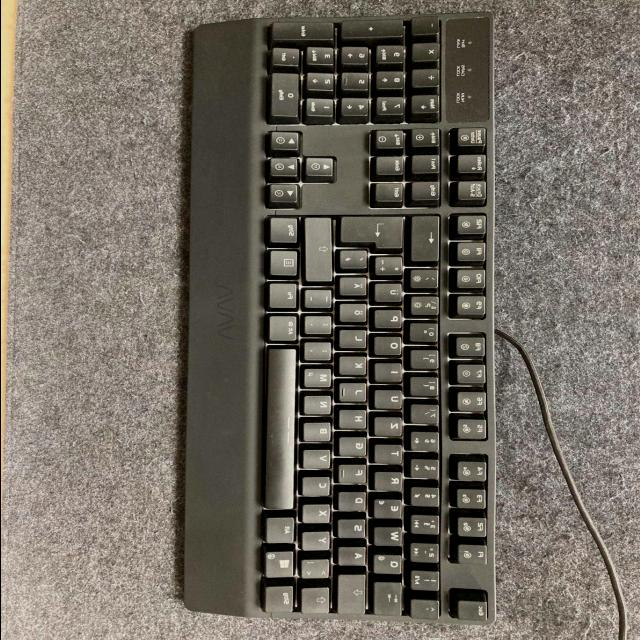0: (411, 324, 442, 346)
1: (412, 571, 443, 593)
2: (411, 544, 442, 566)
3: (411, 516, 443, 538)
4: (411, 488, 443, 510)
5: (411, 460, 443, 482)
6: (411, 432, 443, 454)
7: (411, 405, 442, 427)
8: (410, 377, 442, 399)
9: (411, 350, 442, 372)
a: (339, 548, 369, 568)
accent: (411, 270, 442, 292)
ae: (340, 278, 370, 299)
alt-left: (267, 519, 298, 547)
altgr-right: (270, 317, 301, 345)
b: (304, 423, 334, 445)
c: (302, 478, 334, 499)
caret: (412, 601, 442, 621)
comma: (305, 344, 335, 364)
d: (339, 493, 369, 514)
del: (412, 217, 443, 265)
e: (374, 500, 406, 522)
enter: (340, 218, 406, 253)
f: (340, 466, 370, 486)
g: (340, 438, 370, 458)
h: (340, 411, 370, 432)
hash: (341, 251, 371, 273)
i: (376, 364, 406, 385)
j: (340, 385, 370, 405)
k: (340, 357, 370, 378)
keyboard: (252, 16, 502, 626)
l: (340, 331, 370, 352)
less: (303, 560, 333, 582)
m: (305, 369, 335, 391)
minus: (306, 291, 336, 312)
n: (305, 397, 335, 418)
o: (375, 338, 405, 359)
oe: (340, 305, 370, 325)
p: (375, 310, 405, 332)
plus: (376, 258, 407, 279)
point: (306, 317, 336, 337)
q: (375, 555, 406, 577)
r: (374, 472, 406, 494)
s: (339, 521, 370, 541)
shift-left: (302, 589, 332, 617)
shift-lock: (339, 575, 369, 617)
shift-right: (306, 220, 336, 286)
space: (266, 349, 300, 513)
ss: (411, 297, 443, 319)
strg-left: (267, 587, 297, 616)
strg-right: (271, 218, 301, 246)
t: (376, 446, 406, 467)
tab: (375, 584, 405, 618)
u: (375, 390, 405, 412)
ue: (375, 284, 406, 306)
v: (304, 451, 335, 472)
w: (374, 528, 406, 549)
x: (304, 506, 334, 526)
y: (303, 533, 333, 553)
z: (375, 418, 405, 439)
